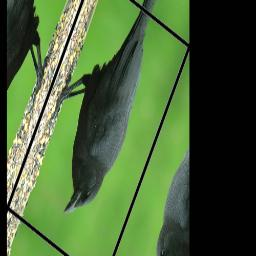Crow: (25, 0, 165, 235)
